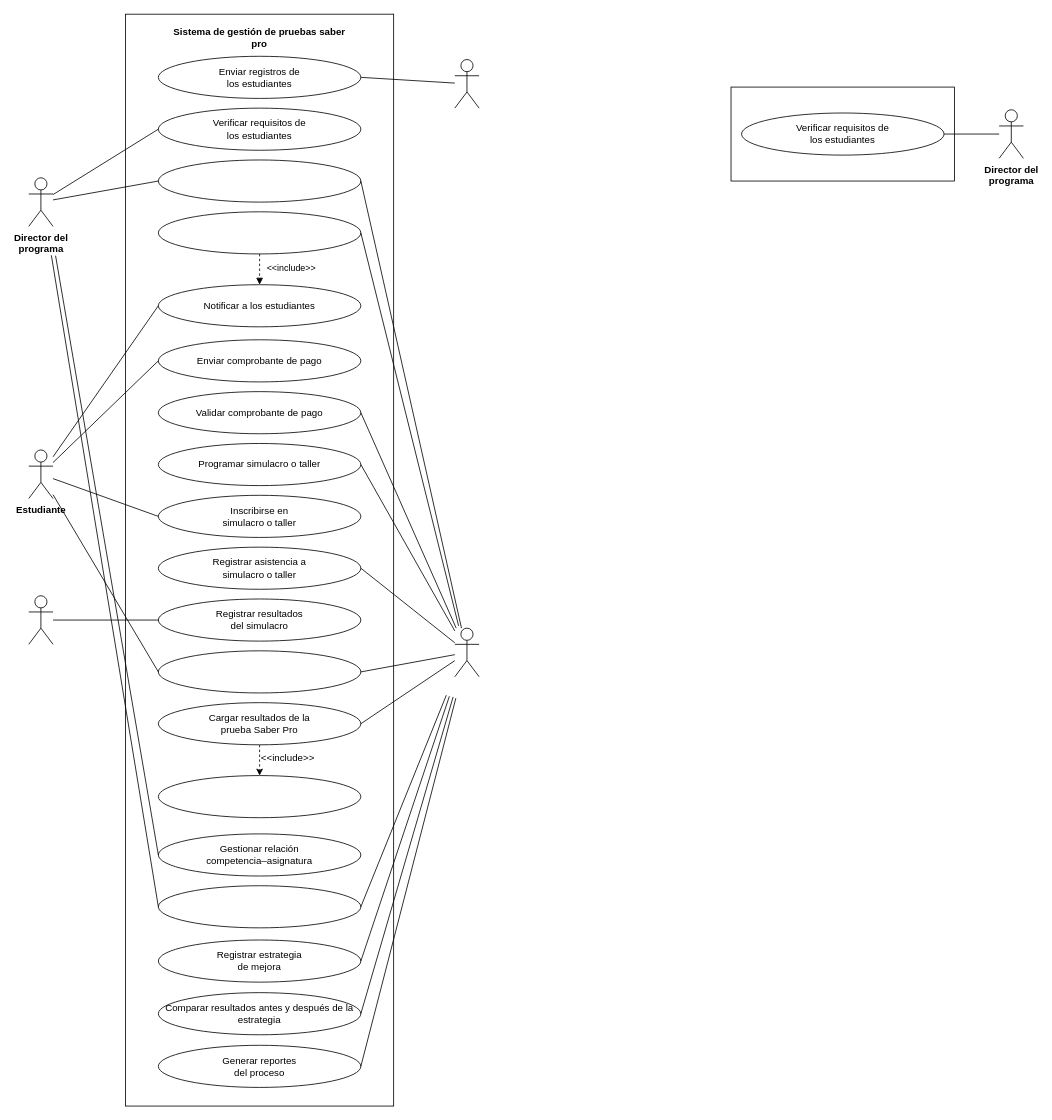
The diagram is 1052 pixels wide and 1120 high, and some of its shapes have lost their labels. Each missing label, with the box of its shape:
Asociar resultados con cohorte y pensum: (158, 775, 361, 818)
Consultar resultados del simulacro: (158, 650, 361, 693)
Consultar trayectoria y resultados de los estudiantes: (158, 885, 361, 928)
Coordinador: (454, 627, 479, 677)
Enviar el listado de estudiantes habilitados: (158, 159, 361, 202)
Oficina de registro y control académico: (454, 59, 479, 108)
Profesor: (28, 595, 53, 644)
Realizar pre-registro: (158, 211, 361, 254)
